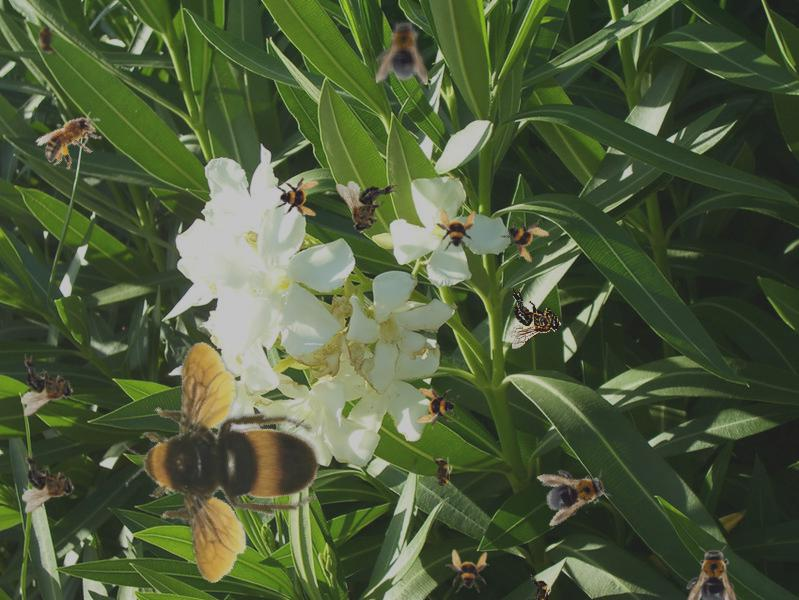Bee: (81, 312, 355, 599), (33, 100, 113, 177), (534, 457, 616, 527), (494, 206, 554, 266), (376, 17, 428, 85), (21, 354, 74, 416), (509, 287, 562, 349), (22, 451, 75, 513), (336, 181, 398, 234), (686, 545, 738, 600), (445, 549, 489, 593), (275, 174, 319, 218), (433, 208, 477, 252), (416, 386, 460, 430), (431, 453, 453, 493), (36, 19, 58, 59), (530, 574, 552, 600)
